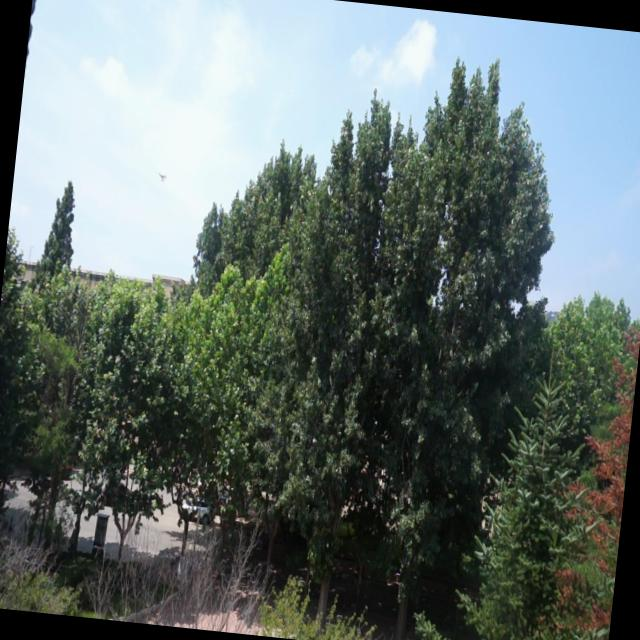drone: (153, 166, 170, 185)
